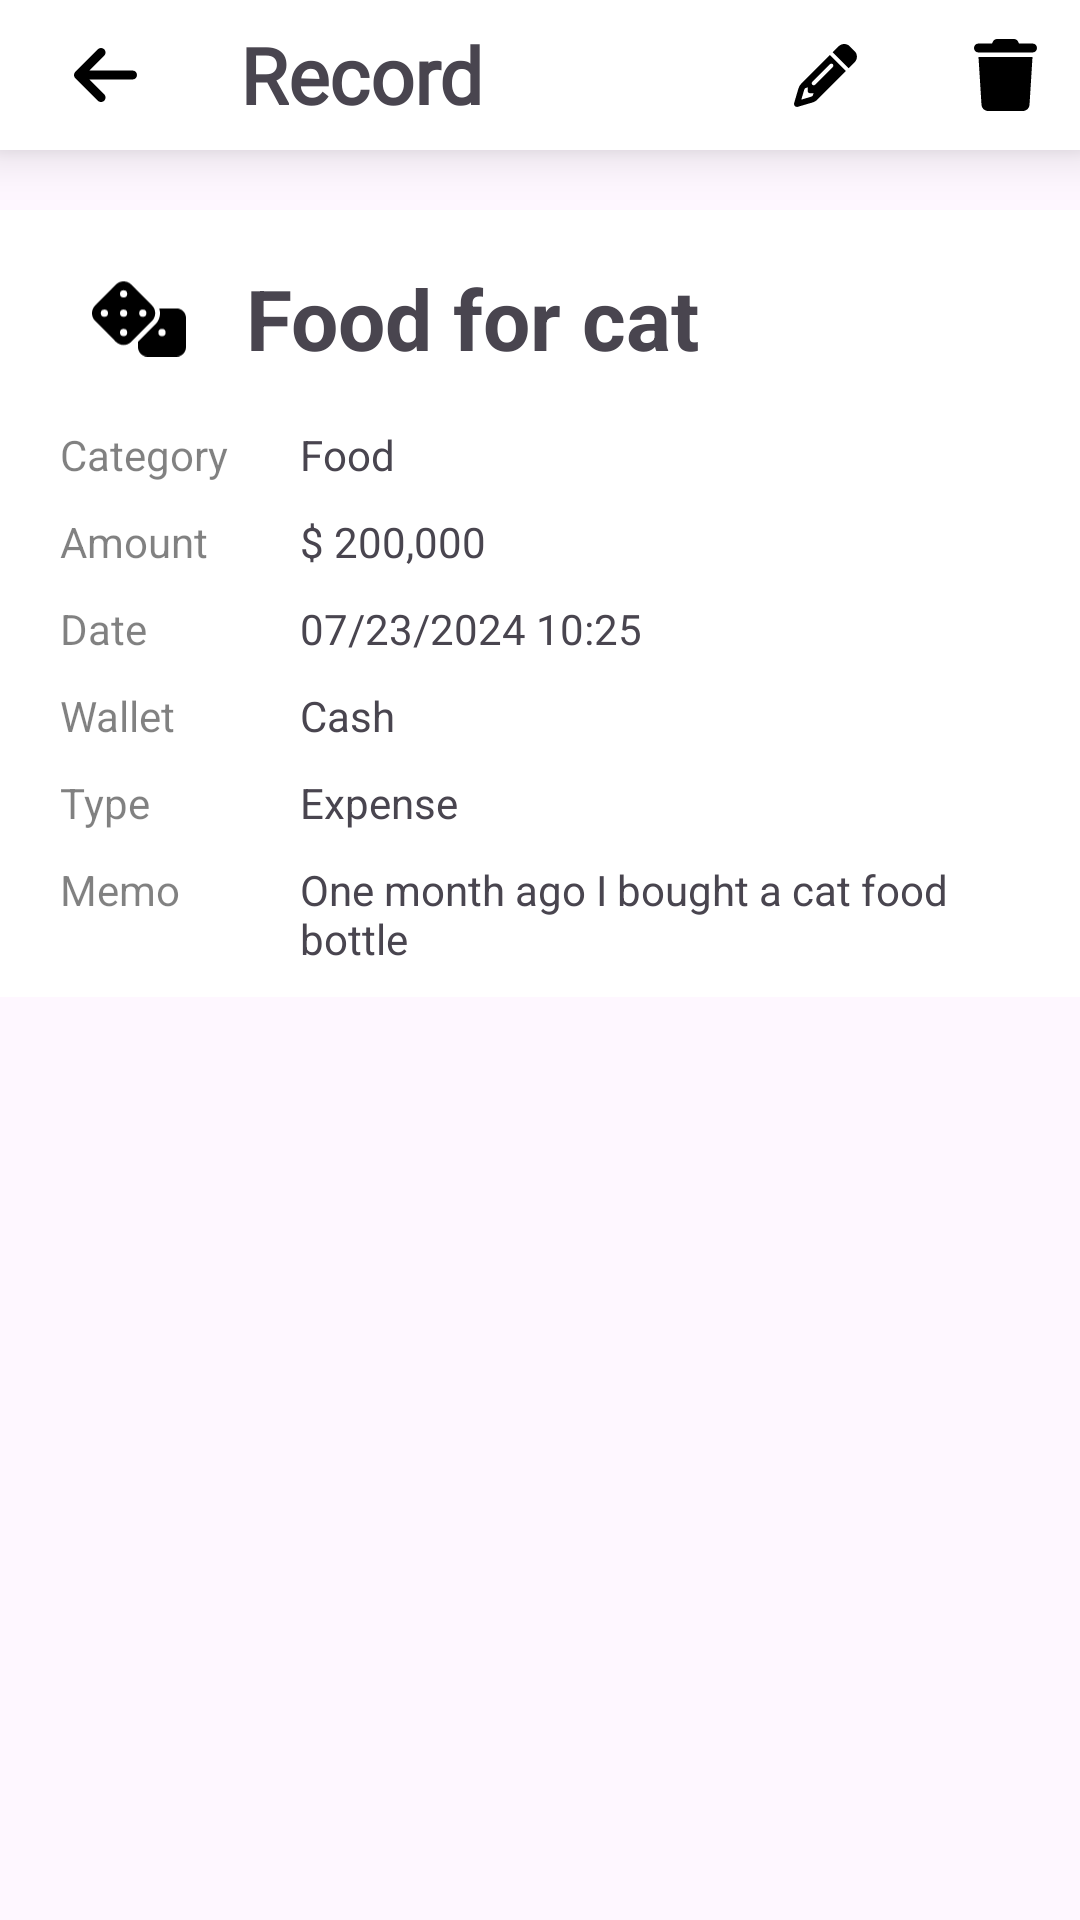

Where to tap for icons on this 1080px×1920px app screen, as (x,y):
arrow left: (105,75)
entertainment: (139,319)
pencil: (825,75)
trash: (1005,75)
